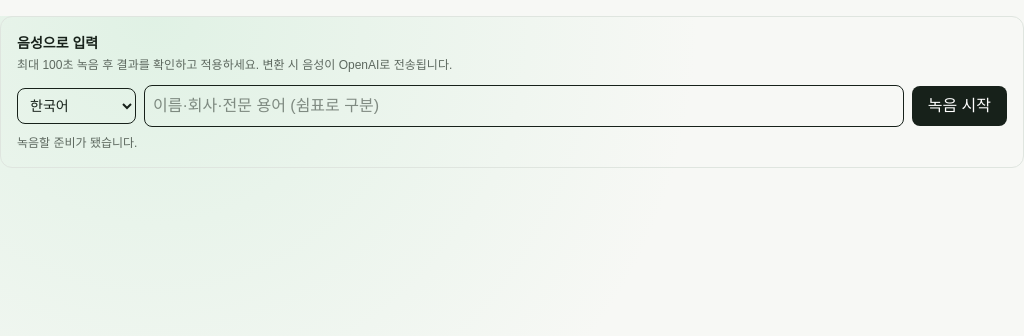
Test case: short voice input › reviews and edits the result before explicitly applying it
This screenshot has width=1024, height=336.
Later steps or results of the test are not shown.
Click the button "녹음 시작" at (959, 106), box [912,86,1007,126]
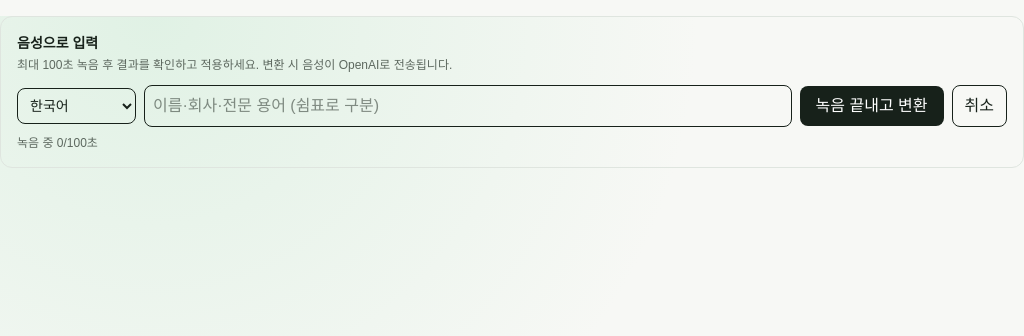
Now the button "녹음 끝내고 변환" is shown, box [800,86,944,126]
